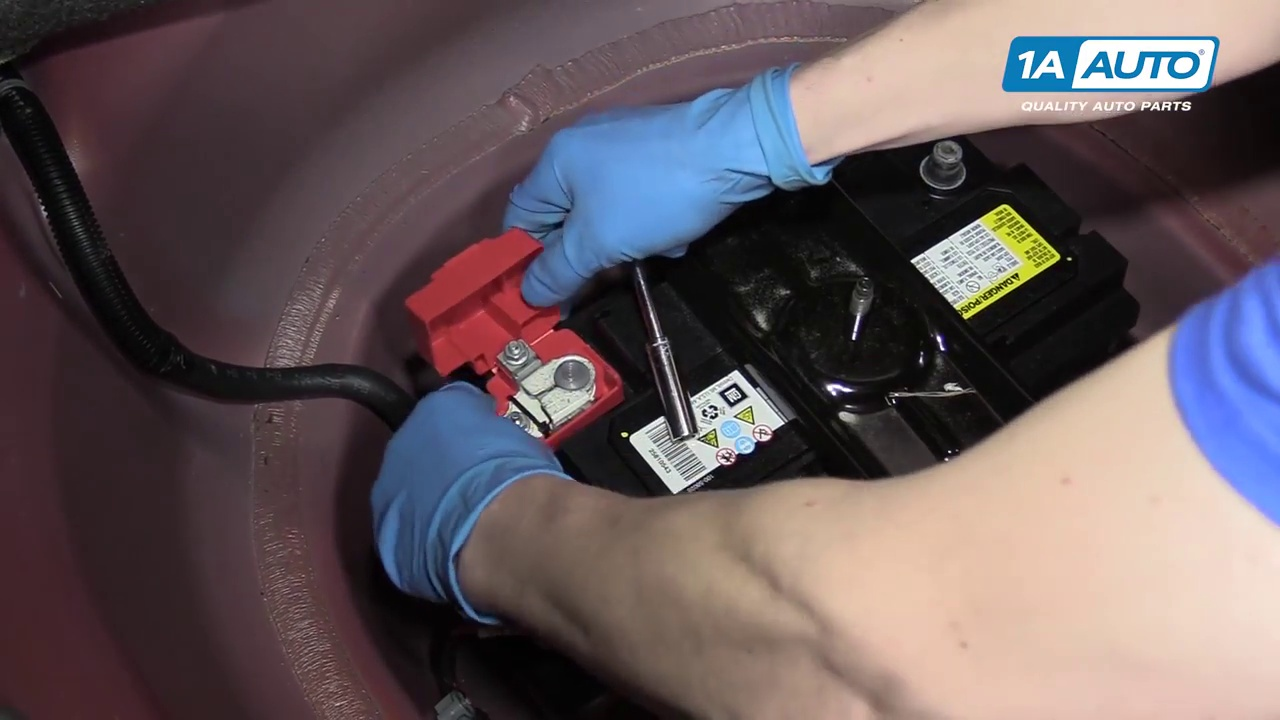battery: (472, 129, 1147, 521)
neg_disconnected: (886, 126, 993, 210)
pos_connected: (441, 257, 613, 447)
pos_touched: (407, 225, 636, 488)
